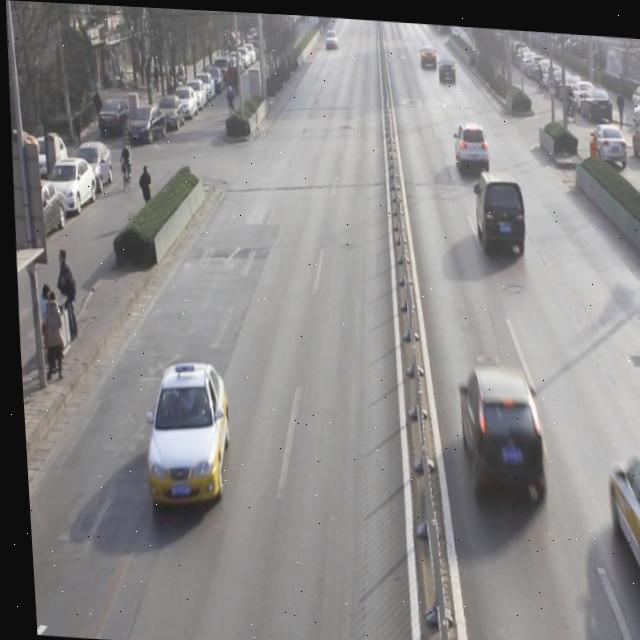car: (141, 353, 229, 517), (451, 364, 546, 507), (599, 448, 640, 609), (450, 114, 491, 174), (437, 48, 456, 84), (419, 40, 438, 68), (321, 23, 337, 50)
truck: (469, 167, 527, 255)
